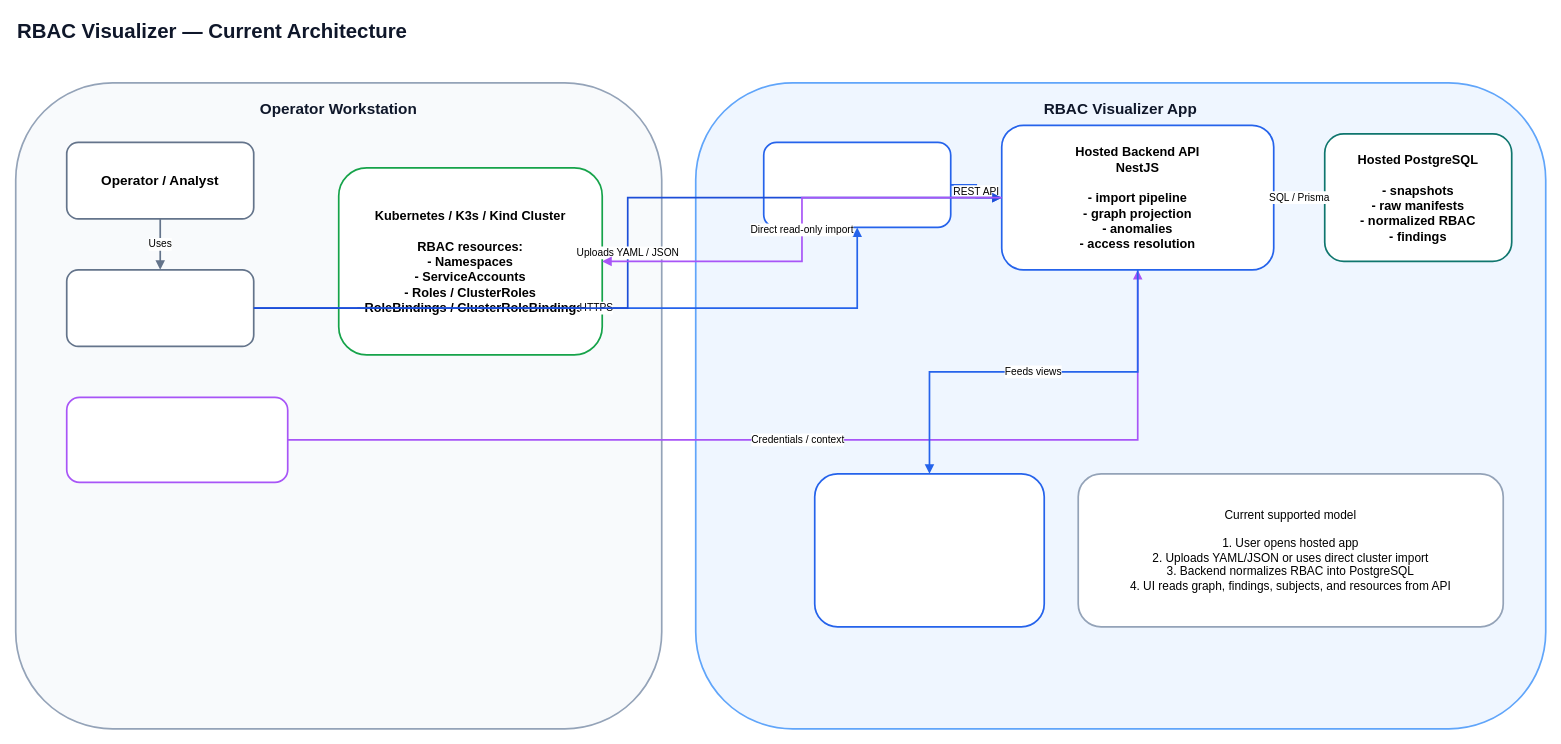
The diagram is 1561 pixels wide and 744 high, and some of its shapes have lost their labels. Here are the shapes that lost their labels. From the top down, the centre of each, then its label:
the point at 856,184: Hosted Frontend Next.js
the point at 159,308: Browser UI
the point at 176,439: Local kubeconfig / cluster credentials
the point at 929,550: Product views - Dashboard - Imports - Graph - Subjects - Resources - Anomalies
